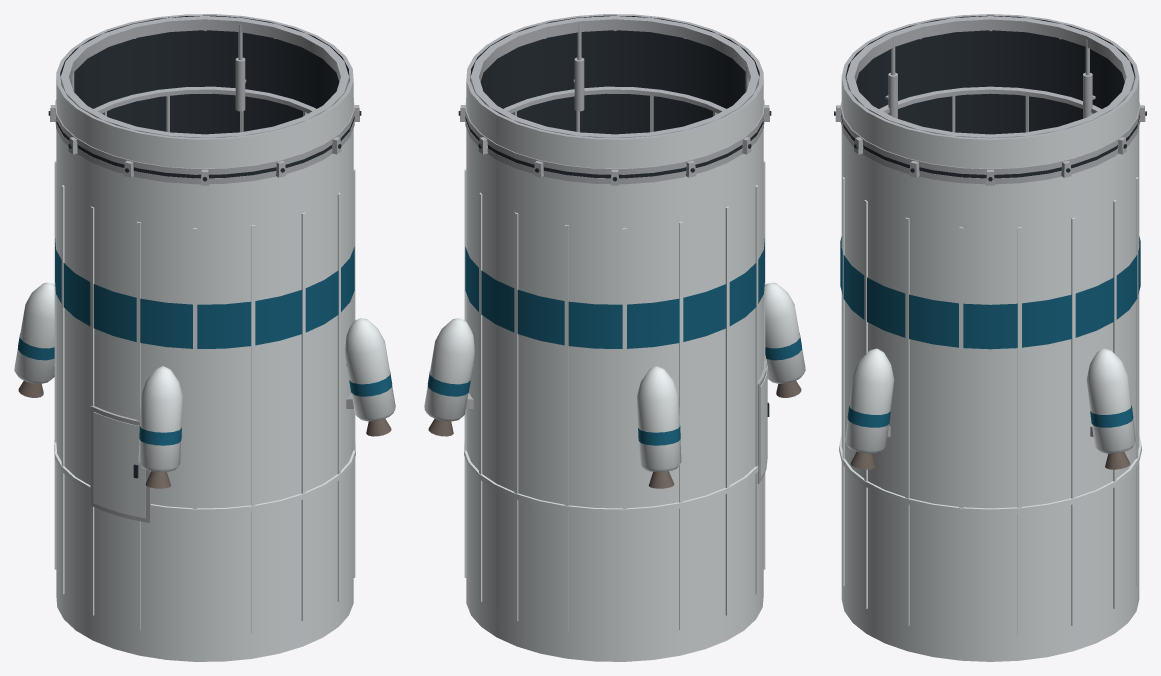
The model's file is interstage_pyro_d15.glb.
3 views of the same model, side by side, from view 1: azimuth 30°, elevation 25°; view 2: azimuth 150°, elevation 25°; view 3: azimuth 270°, elevation 25° (orthographic).
Visible parts, largest first — view 1: interstage_pyro_d15_mesh; view 2: interstage_pyro_d15_mesh; view 3: interstage_pyro_d15_mesh.
Boxes of the visible parts, <box> form: interstage_pyro_d15_mesh: <box>14,14,395,661</box>; interstage_pyro_d15_mesh: <box>424,14,805,661</box>; interstage_pyro_d15_mesh: <box>834,14,1146,661</box>.
Size of the model in its own units: 1.57 by 2.9 by 1.57.
